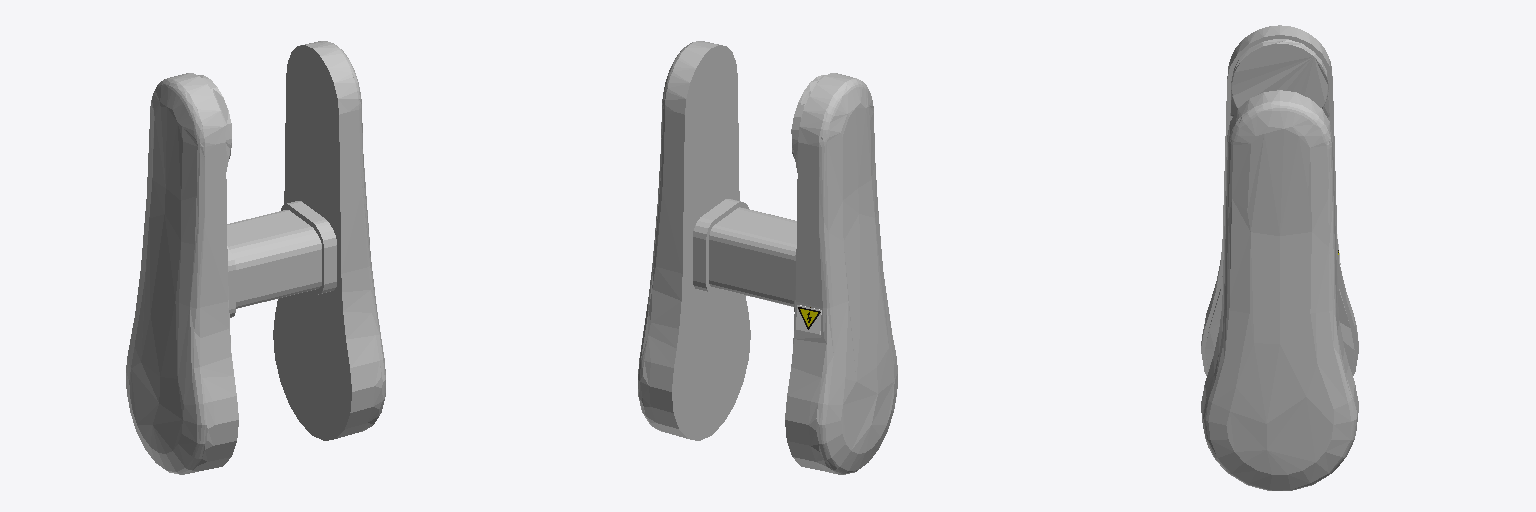
The picture shows the model from 3 angles: view 1: azimuth 30°, elevation 25°; view 2: azimuth 150°, elevation 25°; view 3: azimuth 270°, elevation 25°; orthographic projection.
Visible parts, largest first — view 1: IRB120_3_58_IRC5_Link2_rev003; view 2: IRB120_3_58_IRC5_Link2_rev003, Box508; view 3: IRB120_3_58_IRC5_Link2_rev003.
Part boxes in pixels (bbox=[...]): IRB120_3_58_IRC5_Link2_rev003: bbox=[126, 41, 385, 474]; IRB120_3_58_IRC5_Link2_rev003: bbox=[638, 41, 897, 474]; Box508: bbox=[796, 305, 821, 334]; IRB120_3_58_IRC5_Link2_rev003: bbox=[1201, 25, 1358, 490].
Size of the model in its own units: 219 by 391 by 145.
3 materials, 1 textured.